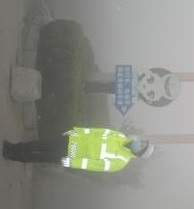person: (1, 126, 152, 172)
